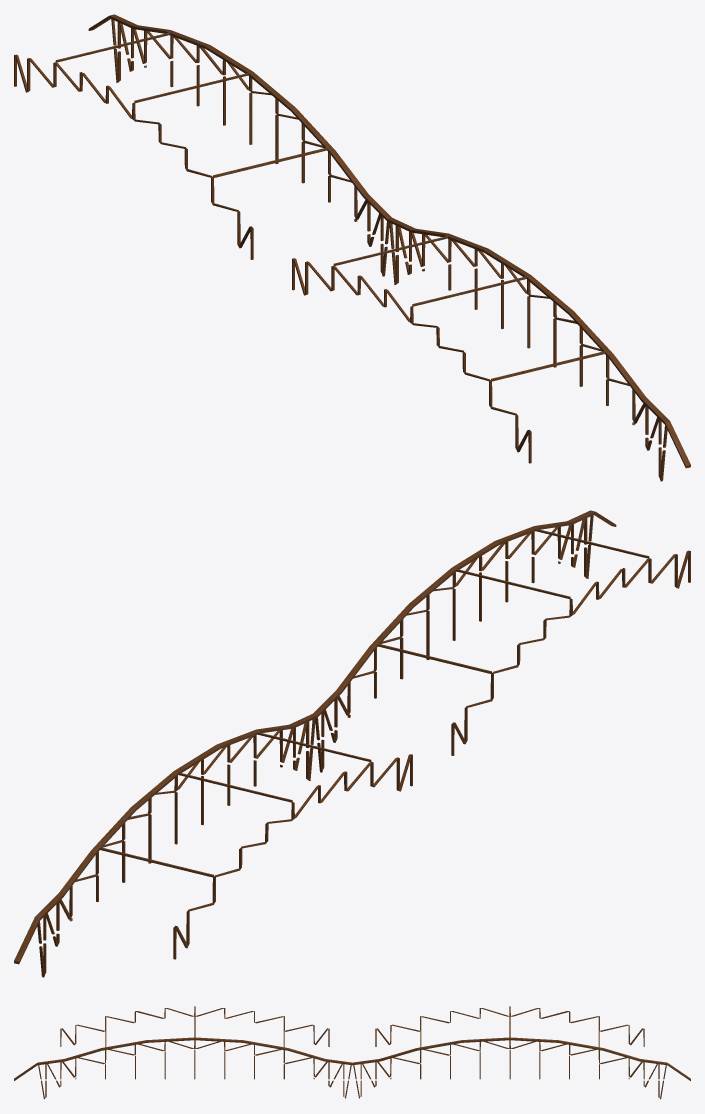
Rendered from cunterb03.obj.
3 renders of one model, top to bottom at view 1: azimuth 30°, elevation 25°; view 2: azimuth 150°, elevation 25°; view 3: azimuth 270°, elevation 25°, orthographic. The views are drawn at different scales.
Parts seen in each view (by area): view 1: cunteRB03; view 2: cunteRB03; view 3: cunteRB03.
Part boxes in pixels (x1=…): cunteRB03: x1=14, y1=14, x2=690, y2=481; cunteRB03: x1=14, y1=510, x2=690, y2=977; cunteRB03: x1=14, y1=1006, x2=690, y2=1099.
Bounding box in the file's own units: 11.54 × 9.87 × 98.98.
Materials: 2 (2 with a texture image).
